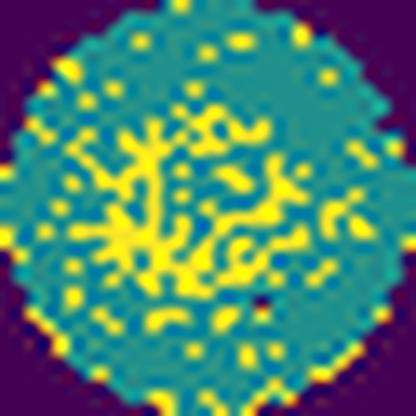Donut: (70, 103, 322, 323)
